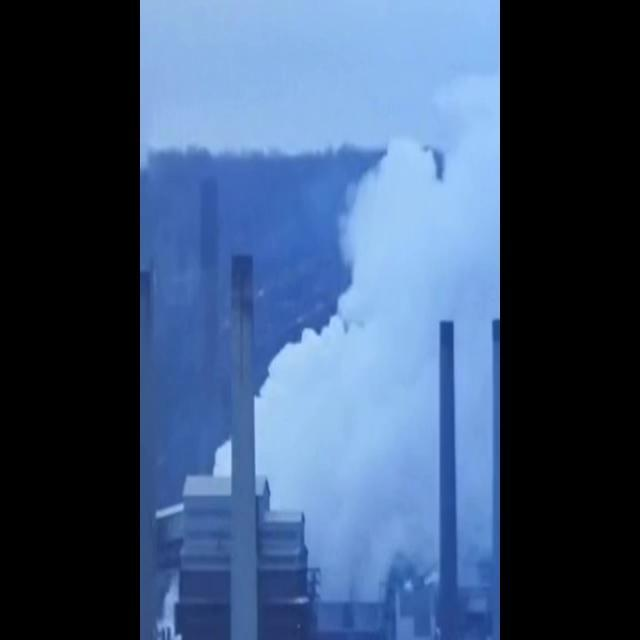Smoke: (254, 74, 502, 605), (212, 438, 232, 478)
